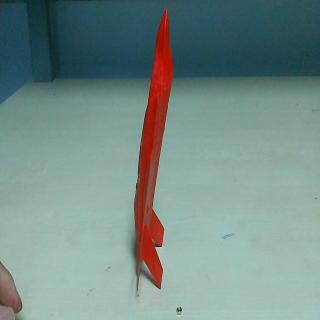Jet: (132, 7, 174, 294)
